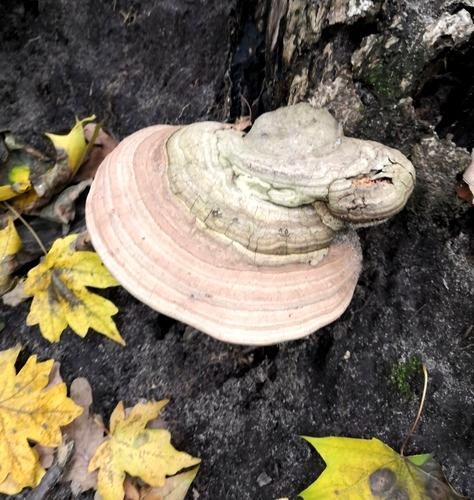Ganoderma - Fruit Body: (77, 112, 418, 349)
